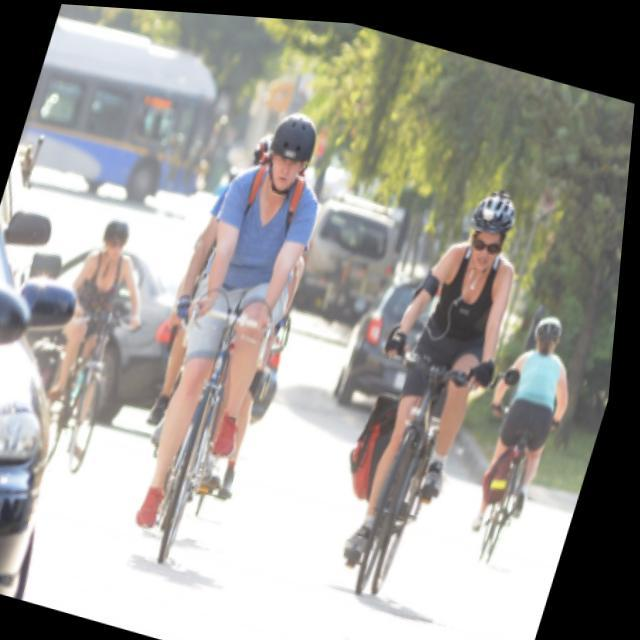Helmet: (261, 110, 321, 188), (464, 186, 512, 274)
